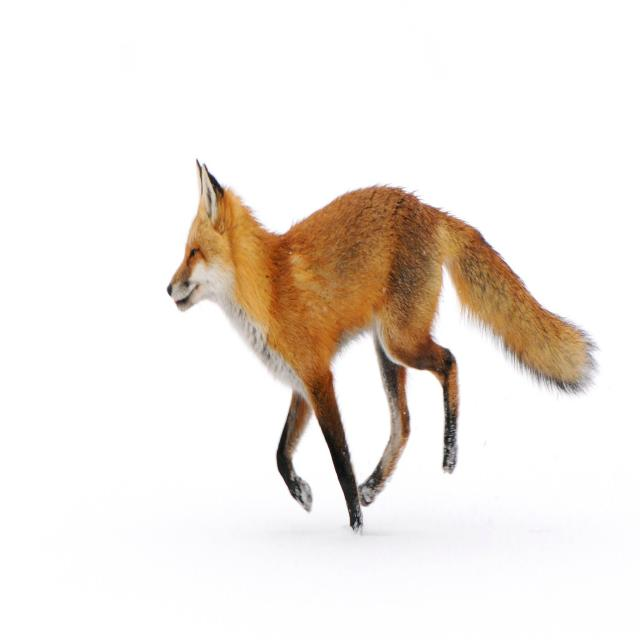fox: (167, 161, 595, 531)
